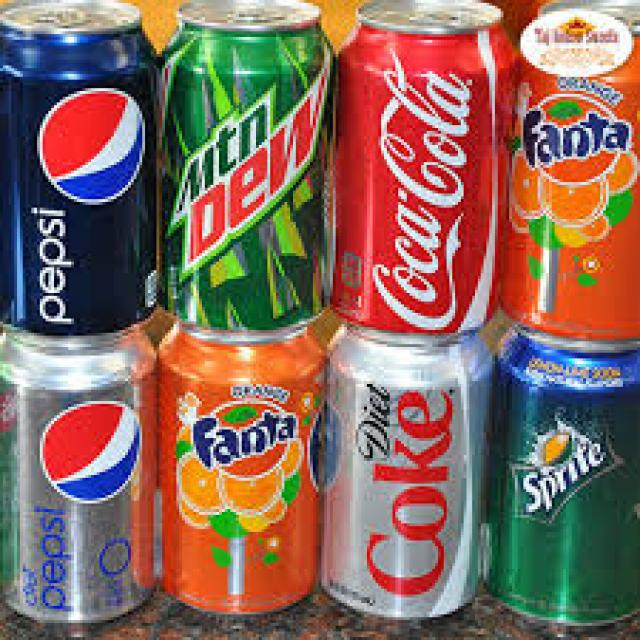Cans: (327, 3, 515, 341), (160, 3, 338, 341), (159, 319, 330, 617), (3, 3, 151, 344), (324, 327, 495, 620), (3, 324, 165, 626), (498, 333, 640, 623)
